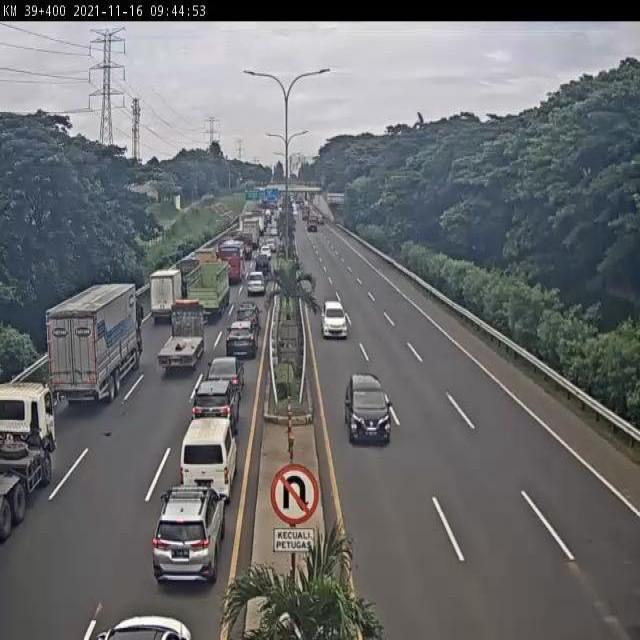big bus: (214, 240, 244, 284)
car: (150, 490, 222, 586), (182, 419, 237, 500), (342, 368, 391, 443), (188, 382, 236, 446), (205, 355, 242, 397), (223, 321, 255, 360), (320, 296, 349, 339), (235, 298, 262, 330), (241, 276, 266, 304)
truck-l-: (43, 286, 143, 406), (186, 263, 228, 317)
truck-m-: (159, 306, 204, 371), (147, 268, 182, 327), (177, 253, 206, 296)
